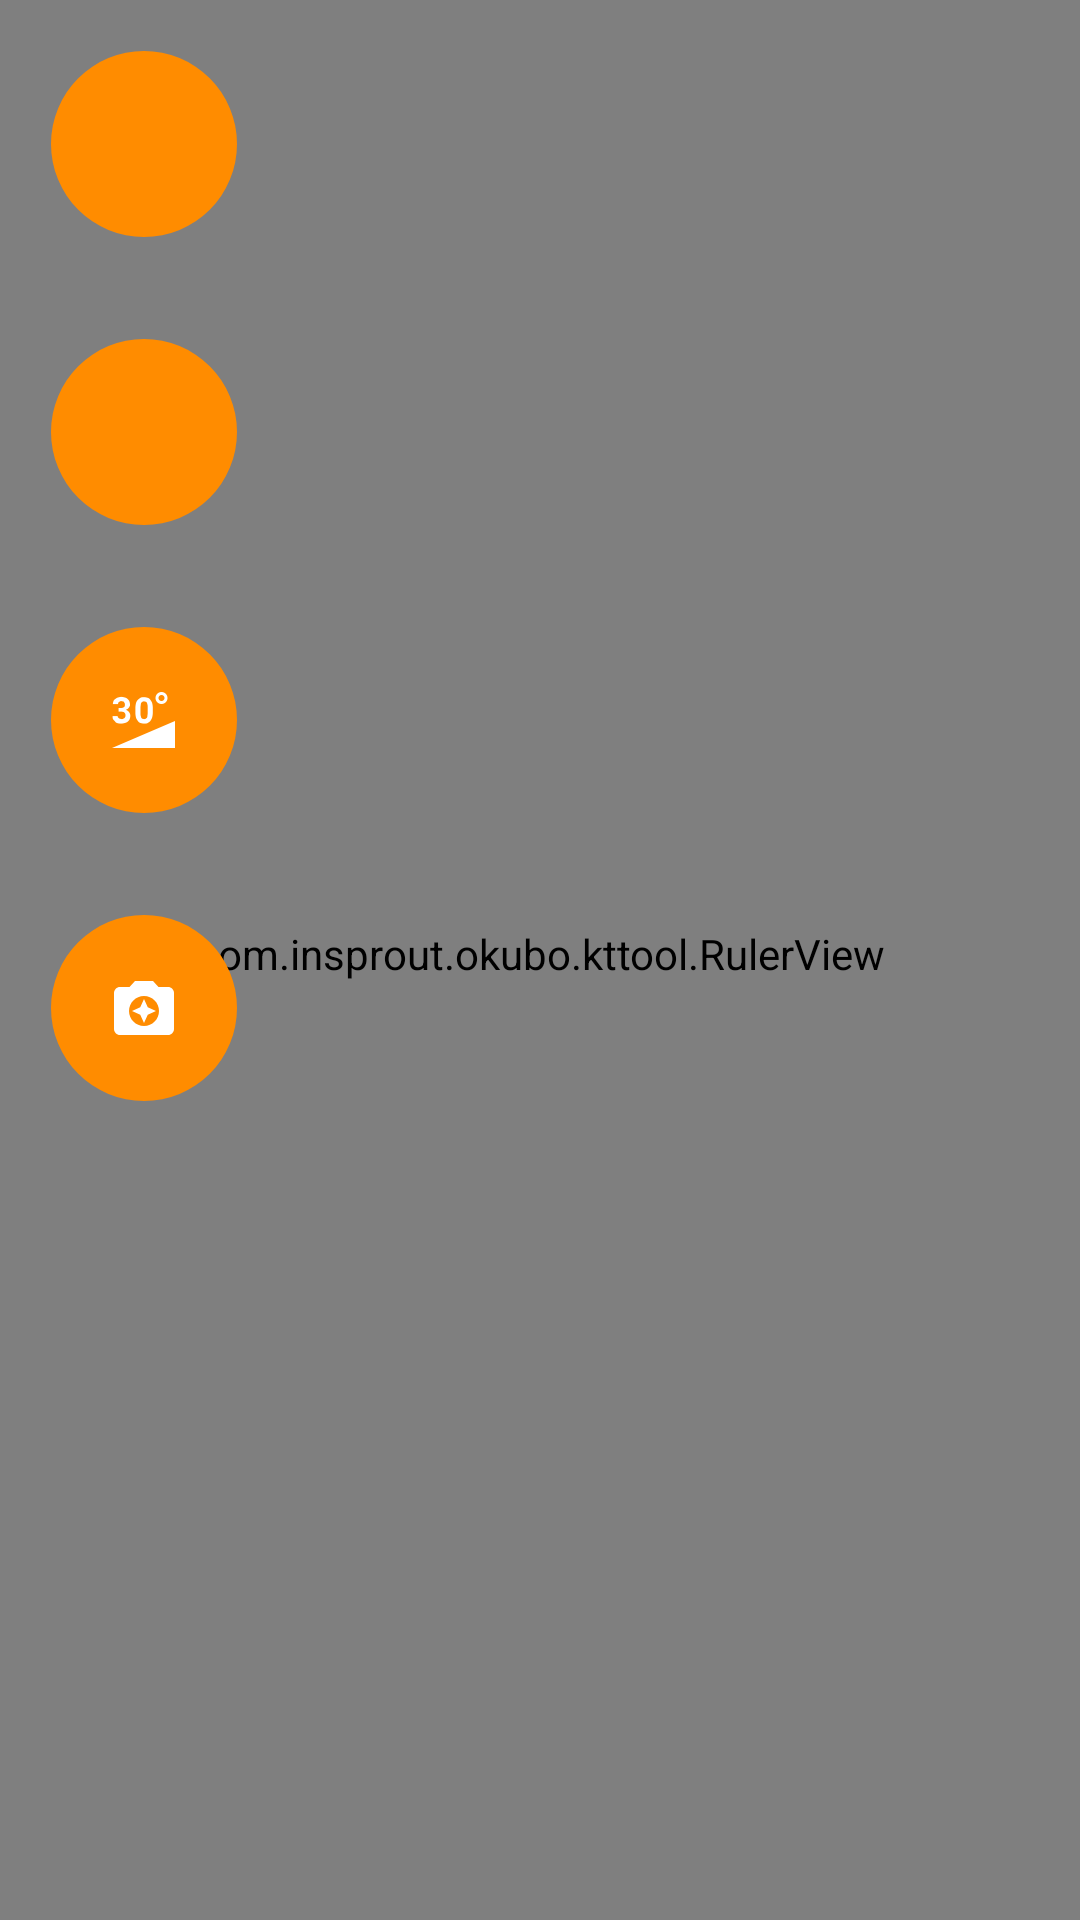

Icons on this 1080w x 1920h Android screen, each with the point to tap as [x,y]:
angle: [144,720]
camera: [145,1008]
